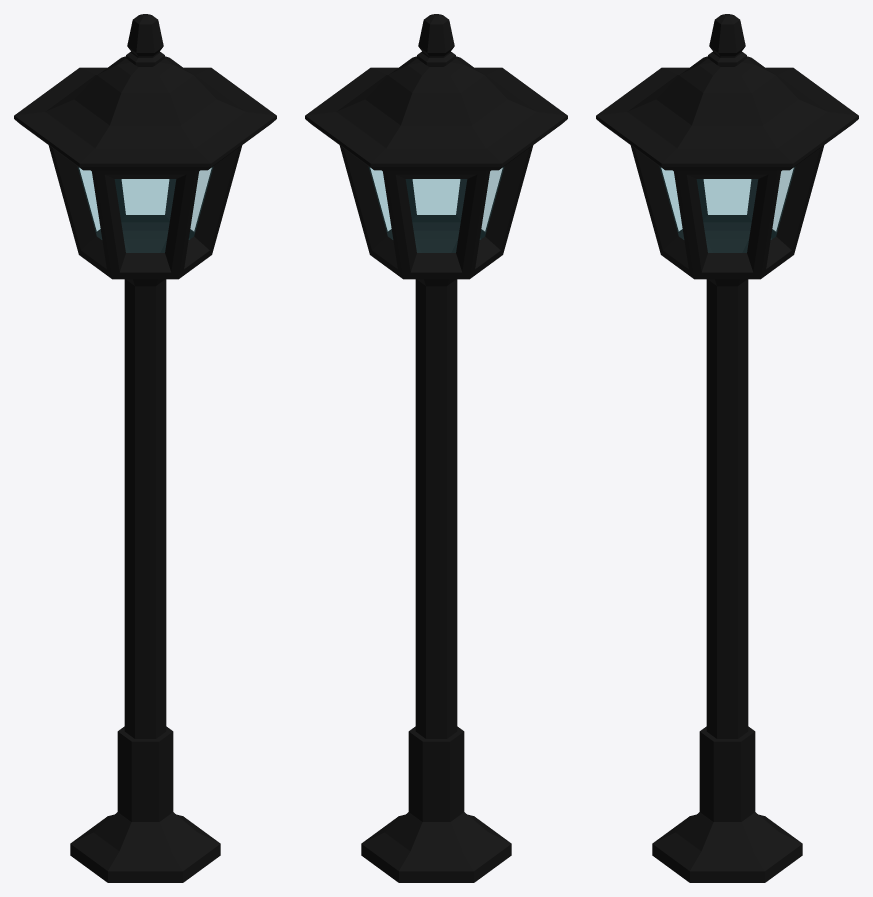
The model's file is lamp_post.glb.
The picture shows the model from 3 angles, left to right: view 1: azimuth 30°, elevation 25°; view 2: azimuth 150°, elevation 25°; view 3: azimuth 270°, elevation 25°; orthographic projection.
Visible parts, largest first — view 1: Цилиндр; view 2: Цилиндр; view 3: Цилиндр.
Part boxes in pixels (x1,y1,x2,y2): Цилиндр: [14, 14, 276, 882]; Цилиндр: [305, 14, 567, 882]; Цилиндр: [596, 14, 858, 882].
Size of the model in its own units: 1.06 by 4.33 by 1.23.
